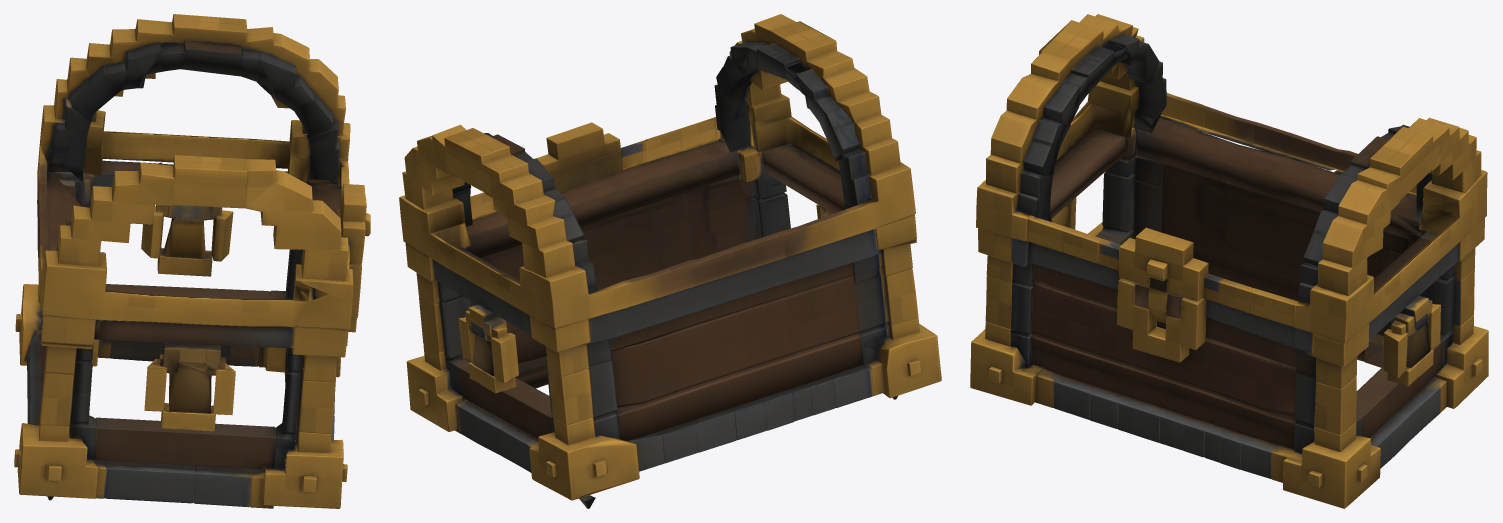
The model's file is bau_retopo.glb.
3 renders of one model, left to right at view 1: azimuth 30°, elevation 25°; view 2: azimuth 150°, elevation 25°; view 3: azimuth 270°, elevation 25°, orthographic. The views are drawn at different scales.
Visible parts, largest first — view 1: tripo_node_c8697c7f-0839-41a5-9cc7-7d5891c2b52e; view 2: tripo_node_c8697c7f-0839-41a5-9cc7-7d5891c2b52e; view 3: tripo_node_c8697c7f-0839-41a5-9cc7-7d5891c2b52e.
Boxes of the visible parts, x1,y1,x2,y2 form: tripo_node_c8697c7f-0839-41a5-9cc7-7d5891c2b52e: [14, 14, 370, 508]; tripo_node_c8697c7f-0839-41a5-9cc7-7d5891c2b52e: [399, 14, 941, 508]; tripo_node_c8697c7f-0839-41a5-9cc7-7d5891c2b52e: [970, 14, 1488, 508].
Size of the model in its own units: 0.9634 by 0.7544 by 0.9995.
1 material, 1 textured.
